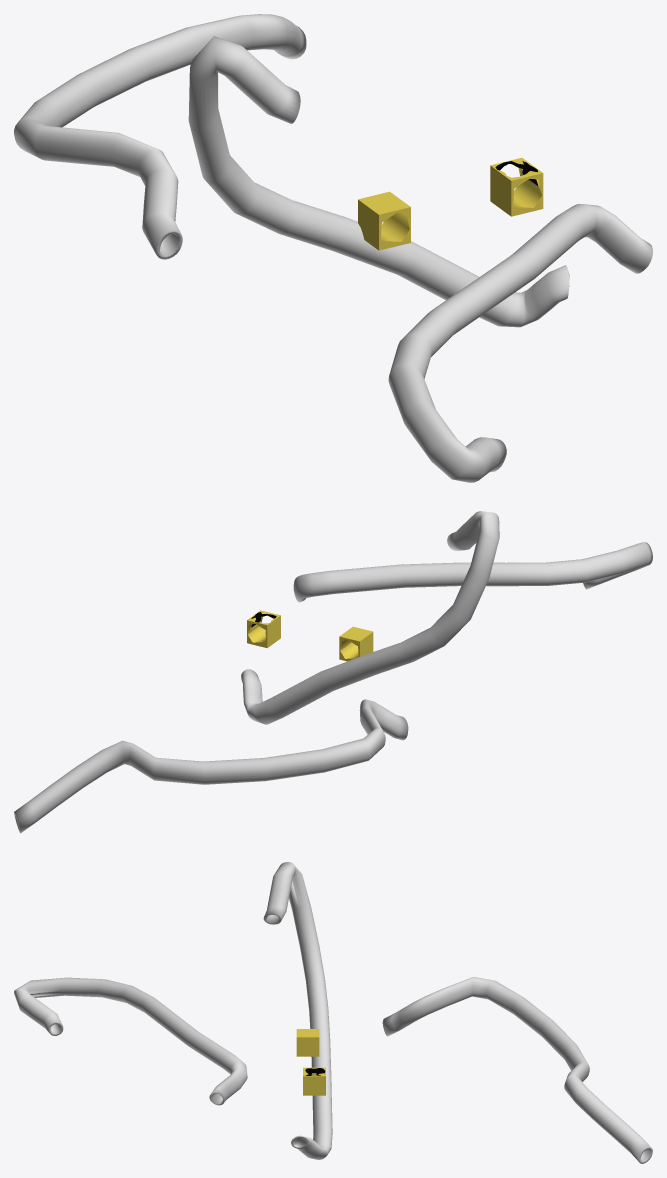
Rendered from CaveProtoA.fbx.
3 views of the same model, one above another, from view 1: azimuth 30°, elevation 25°; view 2: azimuth 150°, elevation 25°; view 3: azimuth 270°, elevation 25° (orthographic). The views are drawn at different scales.
Visible parts, largest first — view 1: BézierCurve.003, BézierCurve.002, BézierCurve.001, caveTunnelBlock1, caveTunnelBlock2; view 2: BézierCurve.002, BézierCurve.003, BézierCurve.001, caveTunnelBlock2, caveTunnelBlock1; view 3: BézierCurve.002, BézierCurve.003, BézierCurve.001, caveTunnelBlock1, caveTunnelBlock2.
Boxes of the visible parts, box(x1,y1,x2,y2) form: BézierCurve.003: box(188, 36, 569, 327); BézierCurve.002: box(14, 14, 306, 259); BézierCurve.001: box(388, 204, 652, 482); caveTunnelBlock1: box(358, 191, 410, 250); caveTunnelBlock2: box(490, 157, 543, 216); BézierCurve.002: box(14, 699, 408, 833); BézierCurve.003: box(241, 511, 499, 724); BézierCurve.001: box(293, 542, 652, 602); caveTunnelBlock2: box(247, 610, 280, 648); caveTunnelBlock1: box(339, 626, 373, 661); BézierCurve.002: box(382, 977, 652, 1163); BézierCurve.003: box(263, 862, 332, 1159); BézierCurve.001: box(14, 977, 247, 1105); caveTunnelBlock1: box(296, 1029, 319, 1056); caveTunnelBlock2: box(303, 1067, 325, 1095).
Bounding box in the file's own units: 12029 × 10258 × 28256.
